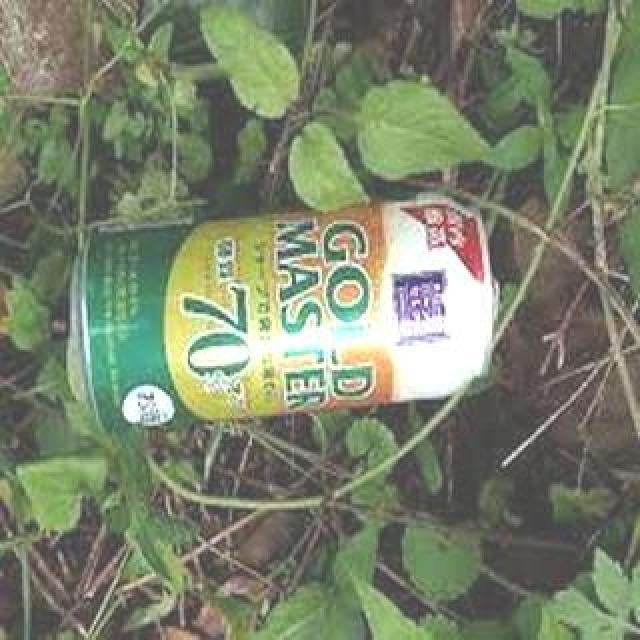Can: (48, 193, 508, 427)
